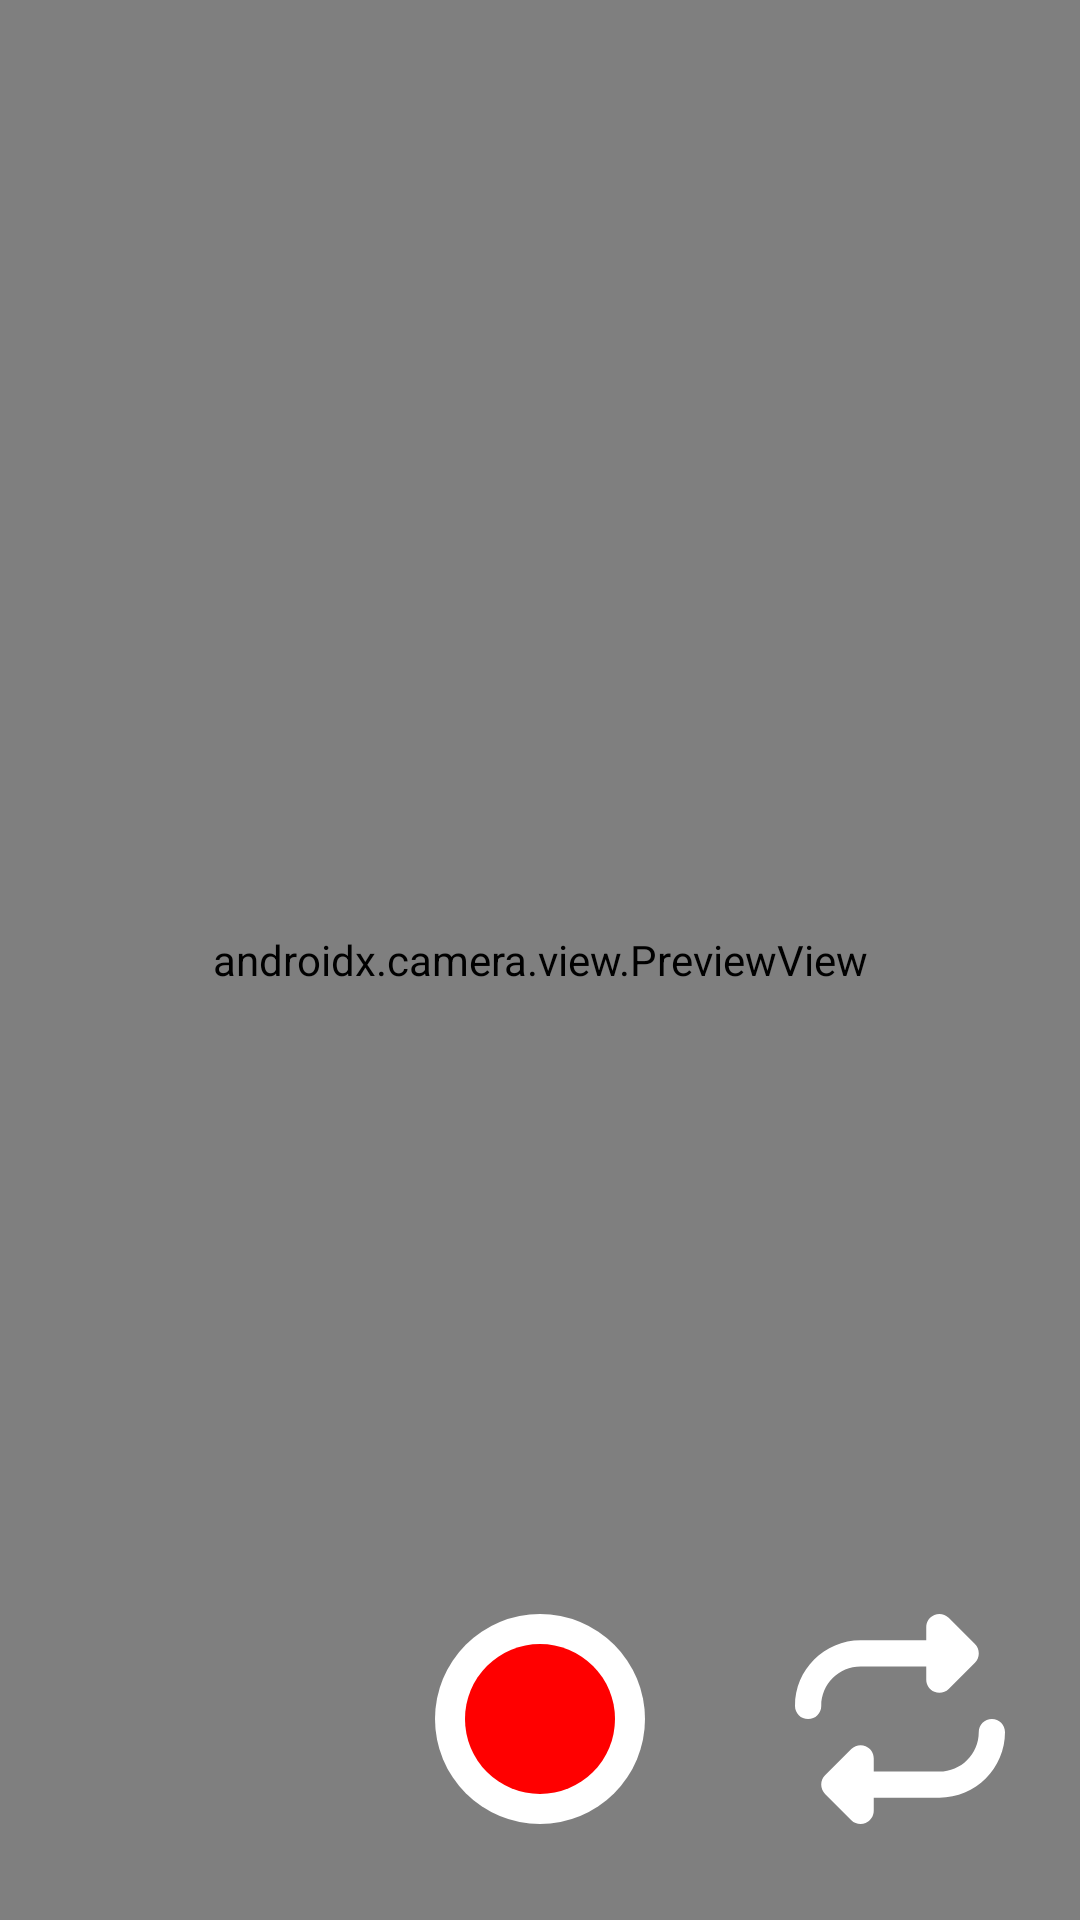

Screen size 1080px×1920px. Icon name, then its box in pixels as (x1,y1,x2,y2):
Switch Camera: (795,1614,1005,1824)
